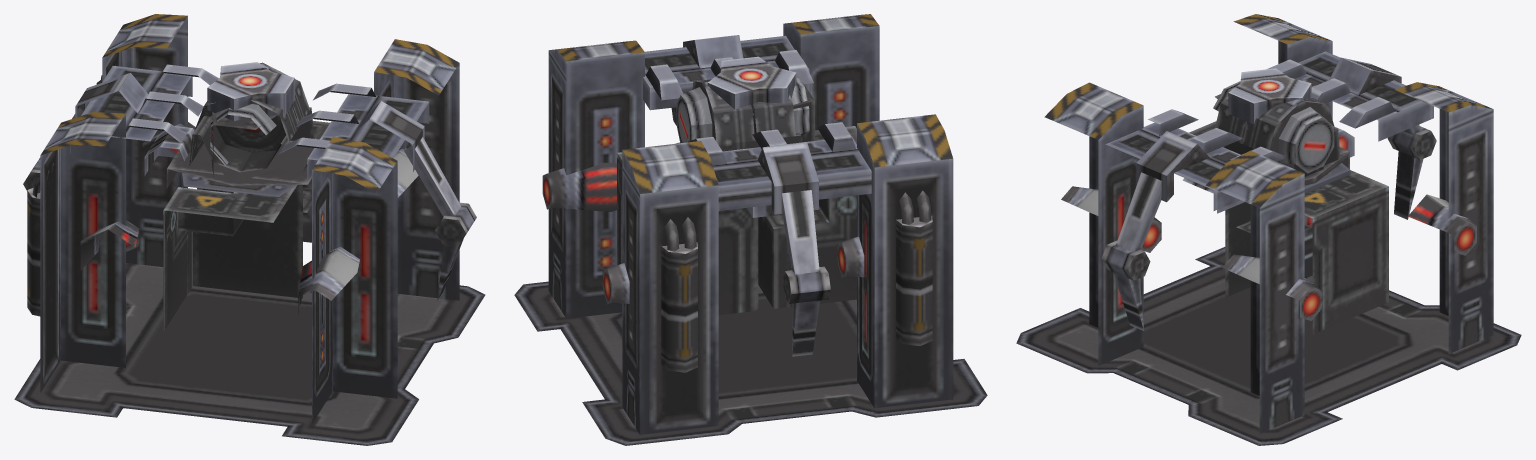
The model's file is jx_skin.FBX.
The picture shows the model from 3 angles, left to right: view 1: azimuth 30°, elevation 25°; view 2: azimuth 150°, elevation 25°; view 3: azimuth 270°, elevation 25°; orthographic projection. The views are drawn at different scales.
Visible parts, largest first — view 1: changeColor13, changeColor12, changeColor22, changeColor2, changeColor7, changeColor3, changeColor4, changeColor15, changeColor8, changeColor14, changeColor18, changeColor23 (+5 smaller); view 2: changeColor13, changeColor12, changeColor22, changeColor3, changeColor2, changeColor18, changeColor19, changeColor7, changeColor20, changeColor21, changeColor14, changeColor11; view 3: changeColor13, changeColor12, changeColor22, changeColor3, changeColor2, changeColor14, changeColor15, changeColor18, changeColor21, changeColor16, changeColor7, changeColor20 (+2 smaller).
Boxes of the visible parts, bbox=[...] form: changeColor13: bbox=[27, 14, 459, 423]; changeColor12: bbox=[14, 263, 485, 445]; changeColor22: bbox=[163, 121, 329, 331]; changeColor2: bbox=[207, 62, 294, 120]; changeColor7: bbox=[190, 100, 314, 165]; changeColor3: bbox=[189, 62, 312, 172]; changeColor4: bbox=[167, 129, 311, 187]; changeColor15: bbox=[404, 137, 460, 216]; changeColor8: bbox=[166, 130, 313, 188]; changeColor14: bbox=[351, 101, 424, 171]; changeColor18: bbox=[75, 73, 147, 117]; changeColor23: bbox=[180, 138, 316, 196]; changeColor13: bbox=[542, 14, 953, 434]; changeColor12: bbox=[514, 281, 987, 445]; changeColor22: bbox=[617, 126, 856, 314]; changeColor3: bbox=[676, 79, 801, 151]; changeColor2: bbox=[707, 56, 796, 112]; changeColor18: bbox=[758, 142, 818, 214]; changeColor19: bbox=[782, 190, 819, 274]; changeColor7: bbox=[753, 78, 809, 137]; changeColor20: bbox=[782, 266, 830, 303]; changeColor21: bbox=[792, 300, 819, 356]; changeColor14: bbox=[683, 35, 743, 68]; changeColor11: bbox=[752, 82, 814, 142]; changeColor13: bbox=[1044, 14, 1493, 433]; changeColor12: bbox=[1016, 247, 1521, 445]; changeColor22: bbox=[1189, 121, 1388, 334]; changeColor3: bbox=[1224, 98, 1334, 173]; changeColor2: bbox=[1228, 68, 1311, 124]; changeColor14: bbox=[1136, 131, 1209, 202]; changeColor15: bbox=[1116, 172, 1161, 252]; changeColor18: bbox=[1329, 57, 1401, 94]; changeColor21: bbox=[1394, 151, 1423, 219]; changeColor16: bbox=[1101, 240, 1150, 280]; changeColor7: bbox=[1213, 81, 1340, 165]; changeColor20: bbox=[1387, 126, 1436, 159].
Size of the model in its own units: 46.75 by 25.81 by 46.75.
